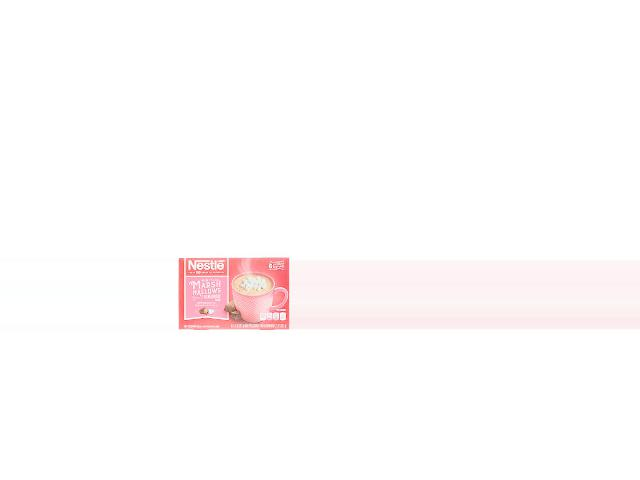chocolate: (181, 260, 290, 334)
